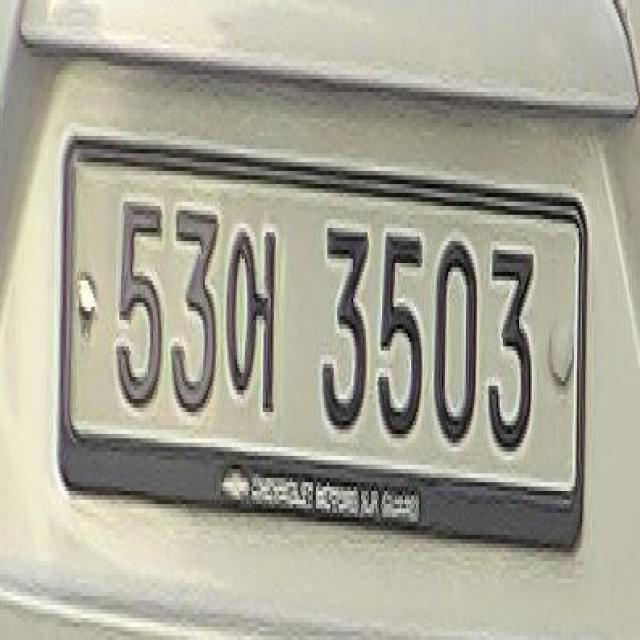0: (429, 232, 479, 460)
3: (316, 197, 371, 443), (490, 219, 542, 469), (164, 184, 220, 408)
5: (110, 193, 171, 421), (374, 206, 424, 438)
eo: (224, 193, 284, 421)
license_plate: (44, 105, 592, 596)
